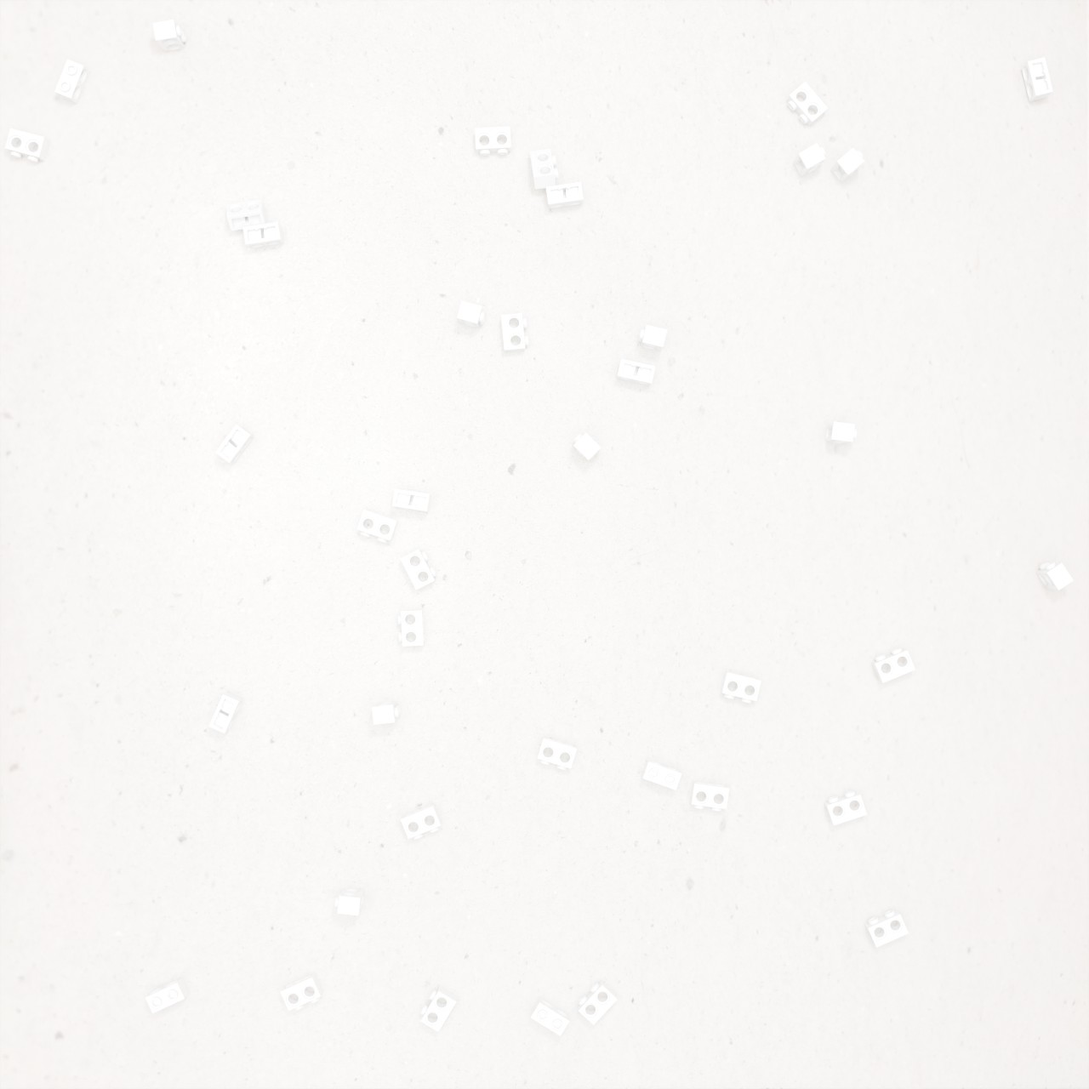lego: (786, 81, 828, 127), (578, 980, 618, 1025), (420, 986, 458, 1032), (864, 910, 909, 948), (280, 972, 323, 1011), (145, 977, 189, 1014), (54, 59, 90, 104), (530, 996, 570, 1036), (871, 648, 916, 683), (5, 128, 50, 163), (215, 424, 254, 464), (400, 803, 442, 840), (400, 549, 437, 590), (824, 791, 867, 826), (208, 692, 243, 734), (1021, 57, 1053, 102), (357, 509, 399, 543), (537, 736, 577, 770), (720, 671, 761, 703), (641, 759, 682, 790), (830, 147, 865, 183), (227, 199, 266, 231), (530, 148, 559, 189), (690, 781, 729, 811), (793, 143, 826, 178), (152, 19, 187, 52), (243, 222, 284, 249), (1036, 561, 1074, 590), (501, 313, 529, 352), (616, 359, 656, 386), (475, 126, 511, 156), (546, 182, 583, 209), (398, 610, 425, 646), (392, 489, 431, 512), (335, 888, 365, 916), (457, 301, 486, 329), (573, 433, 601, 462), (638, 325, 667, 352), (825, 422, 857, 444), (372, 701, 401, 725)
